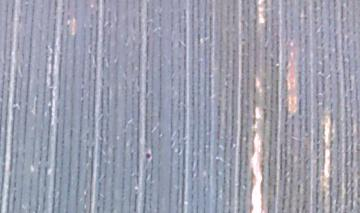tarspot: (143, 151, 152, 160)
